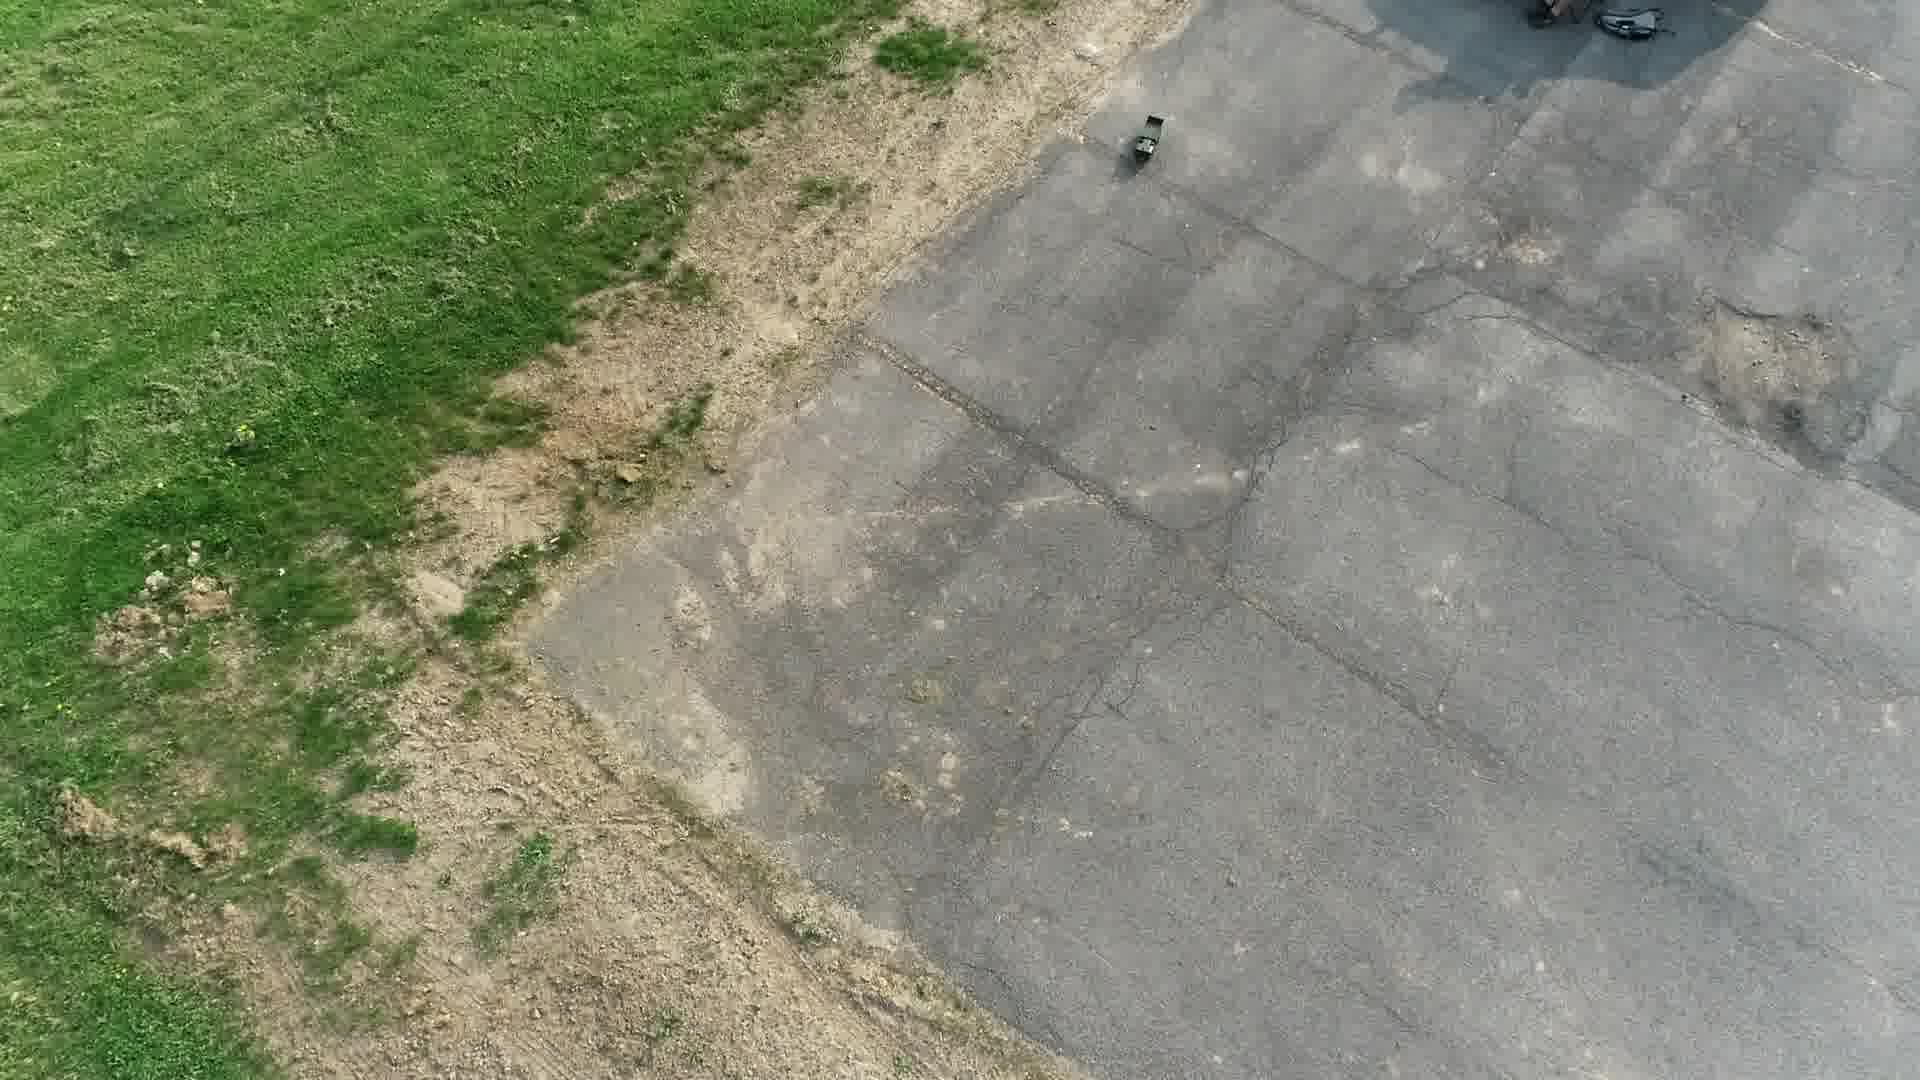transporter9: (1129, 113, 1166, 171)
